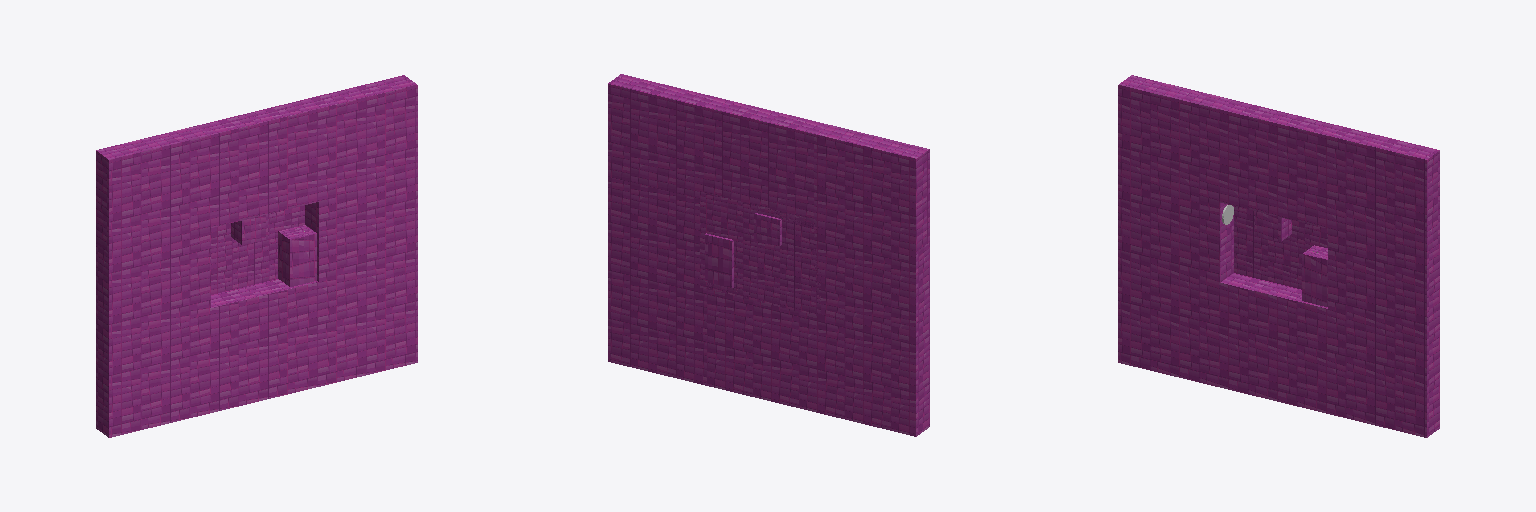
3 views of the same model, side by side, from view 1: azimuth 30°, elevation 25°; view 2: azimuth 150°, elevation 25°; view 3: azimuth 330°, elevation 25° (orthographic).
Parts seen in each view (by area): view 1: Cube, Plane, Cube.001, Cube.003_Cube.004; view 2: Cube, Plane, Cube.001, Cube.003_Cube.004; view 3: Cube, Plane, Cube.001, Cube.003_Cube.004.
Part boxes in pixels (x1,y1,x2,y2): Cube: (96,75,417,437); Plane: (211,205,304,294); Cube.001: (278,225,316,286); Cube.003_Cube.004: (231,214,267,244); Cube: (608,74,929,436); Plane: (700,192,820,315); Cube.001: (705,233,733,287); Cube.003_Cube.004: (754,213,781,245); Cube: (1118,75,1439,437); Plane: (1234,206,1327,289); Cube.001: (1302,245,1327,306); Cube.003_Cube.004: (1255,211,1291,241).
Size of the model in its own units: 40.25 by 34.68 by 3.34.
2 materials, 1 textured.